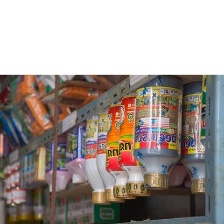insecticide: (130, 73, 185, 192), (177, 78, 223, 197), (115, 88, 162, 199), (102, 94, 147, 201), (92, 98, 134, 205), (81, 105, 120, 207), (42, 131, 77, 193), (62, 117, 93, 185)
